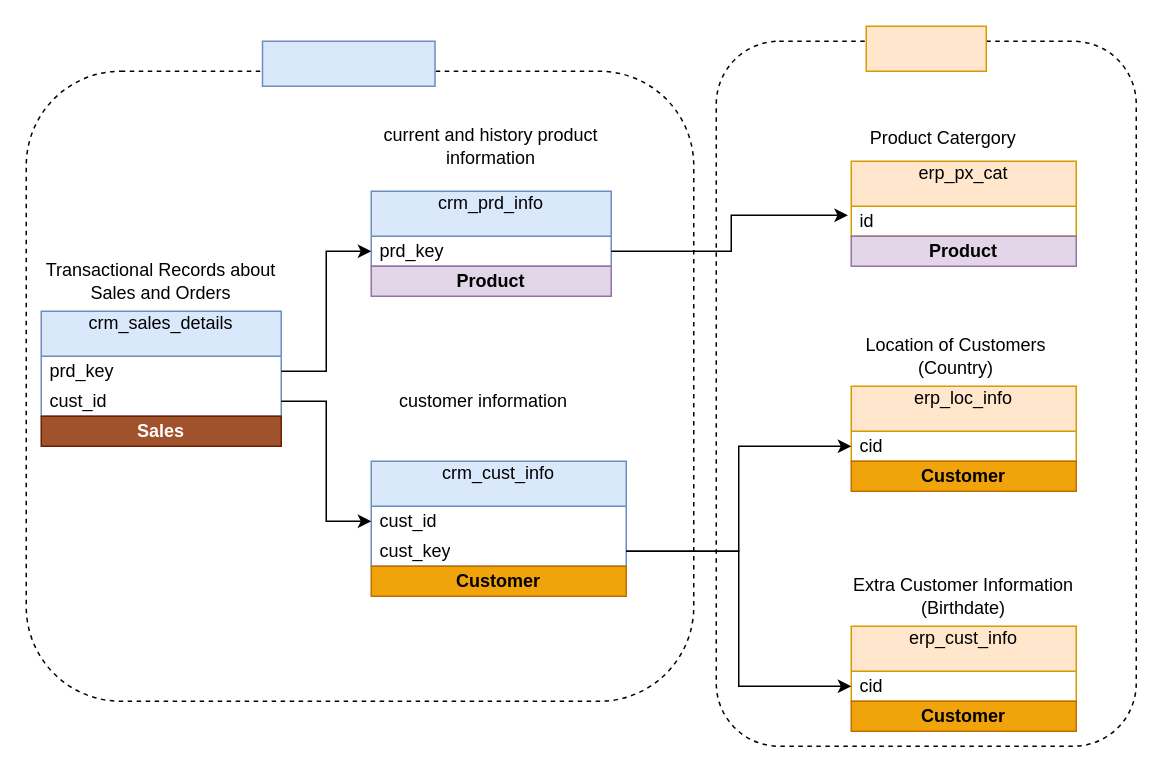
This 1163x773 diagram has some shape labels left out. The shapes that lost their labels are listed below. From the top down, each one's centre as x and y in pixels, then its label:
pixel 348 63: CRM
pixel 925 48: ERP
